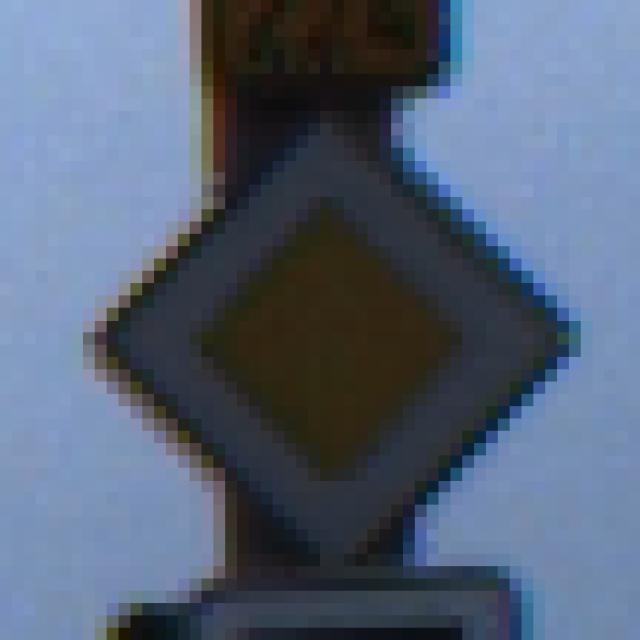Main Road: (60, 75, 582, 579)
